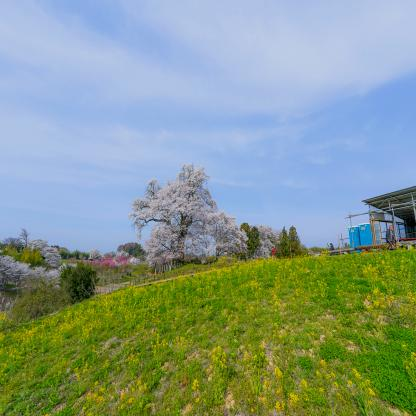EdohiganSakura: (128, 163, 248, 267)
